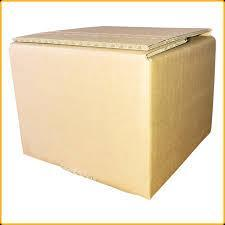box: (10, 26, 216, 197)
